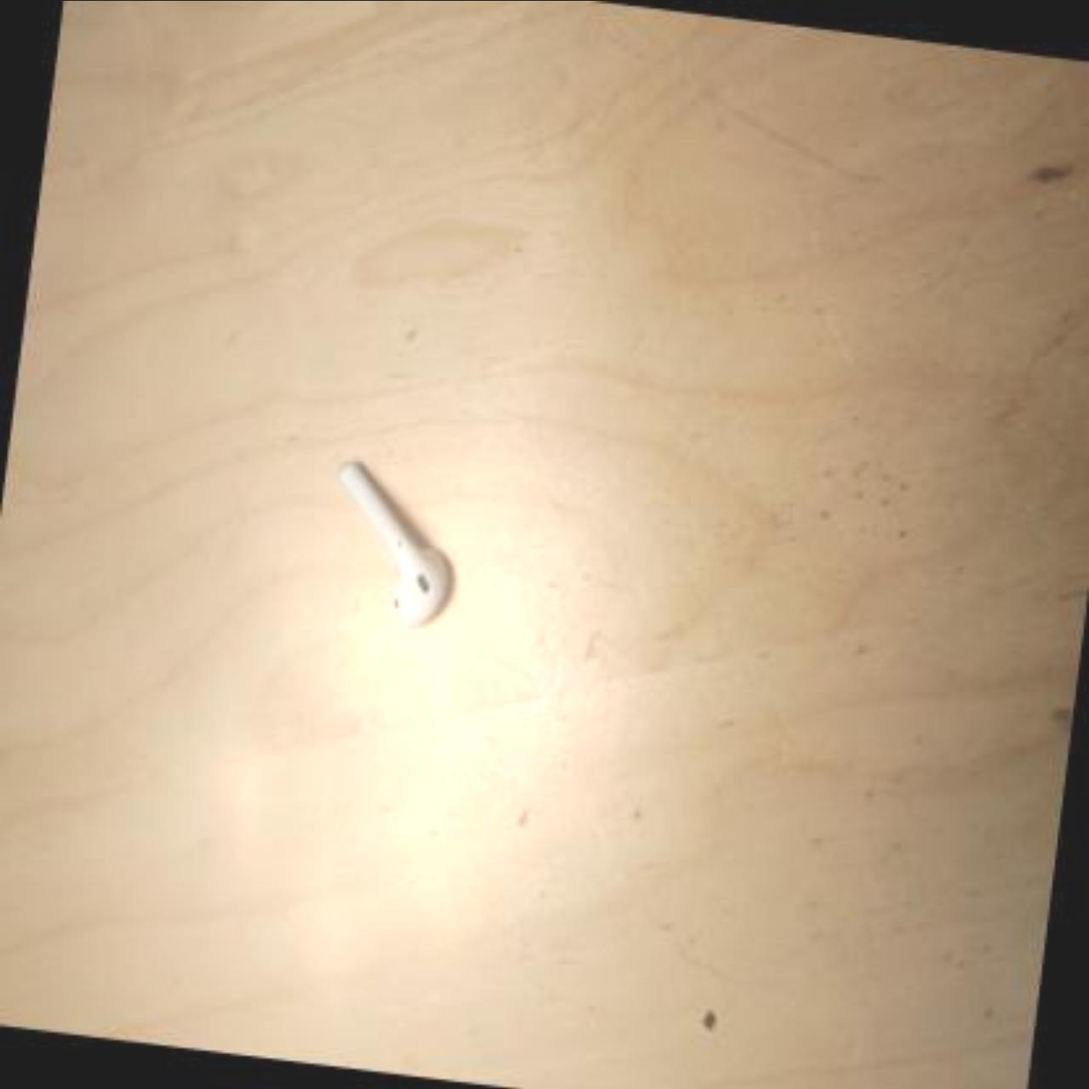Airpods_Units: (320, 456, 459, 628)
